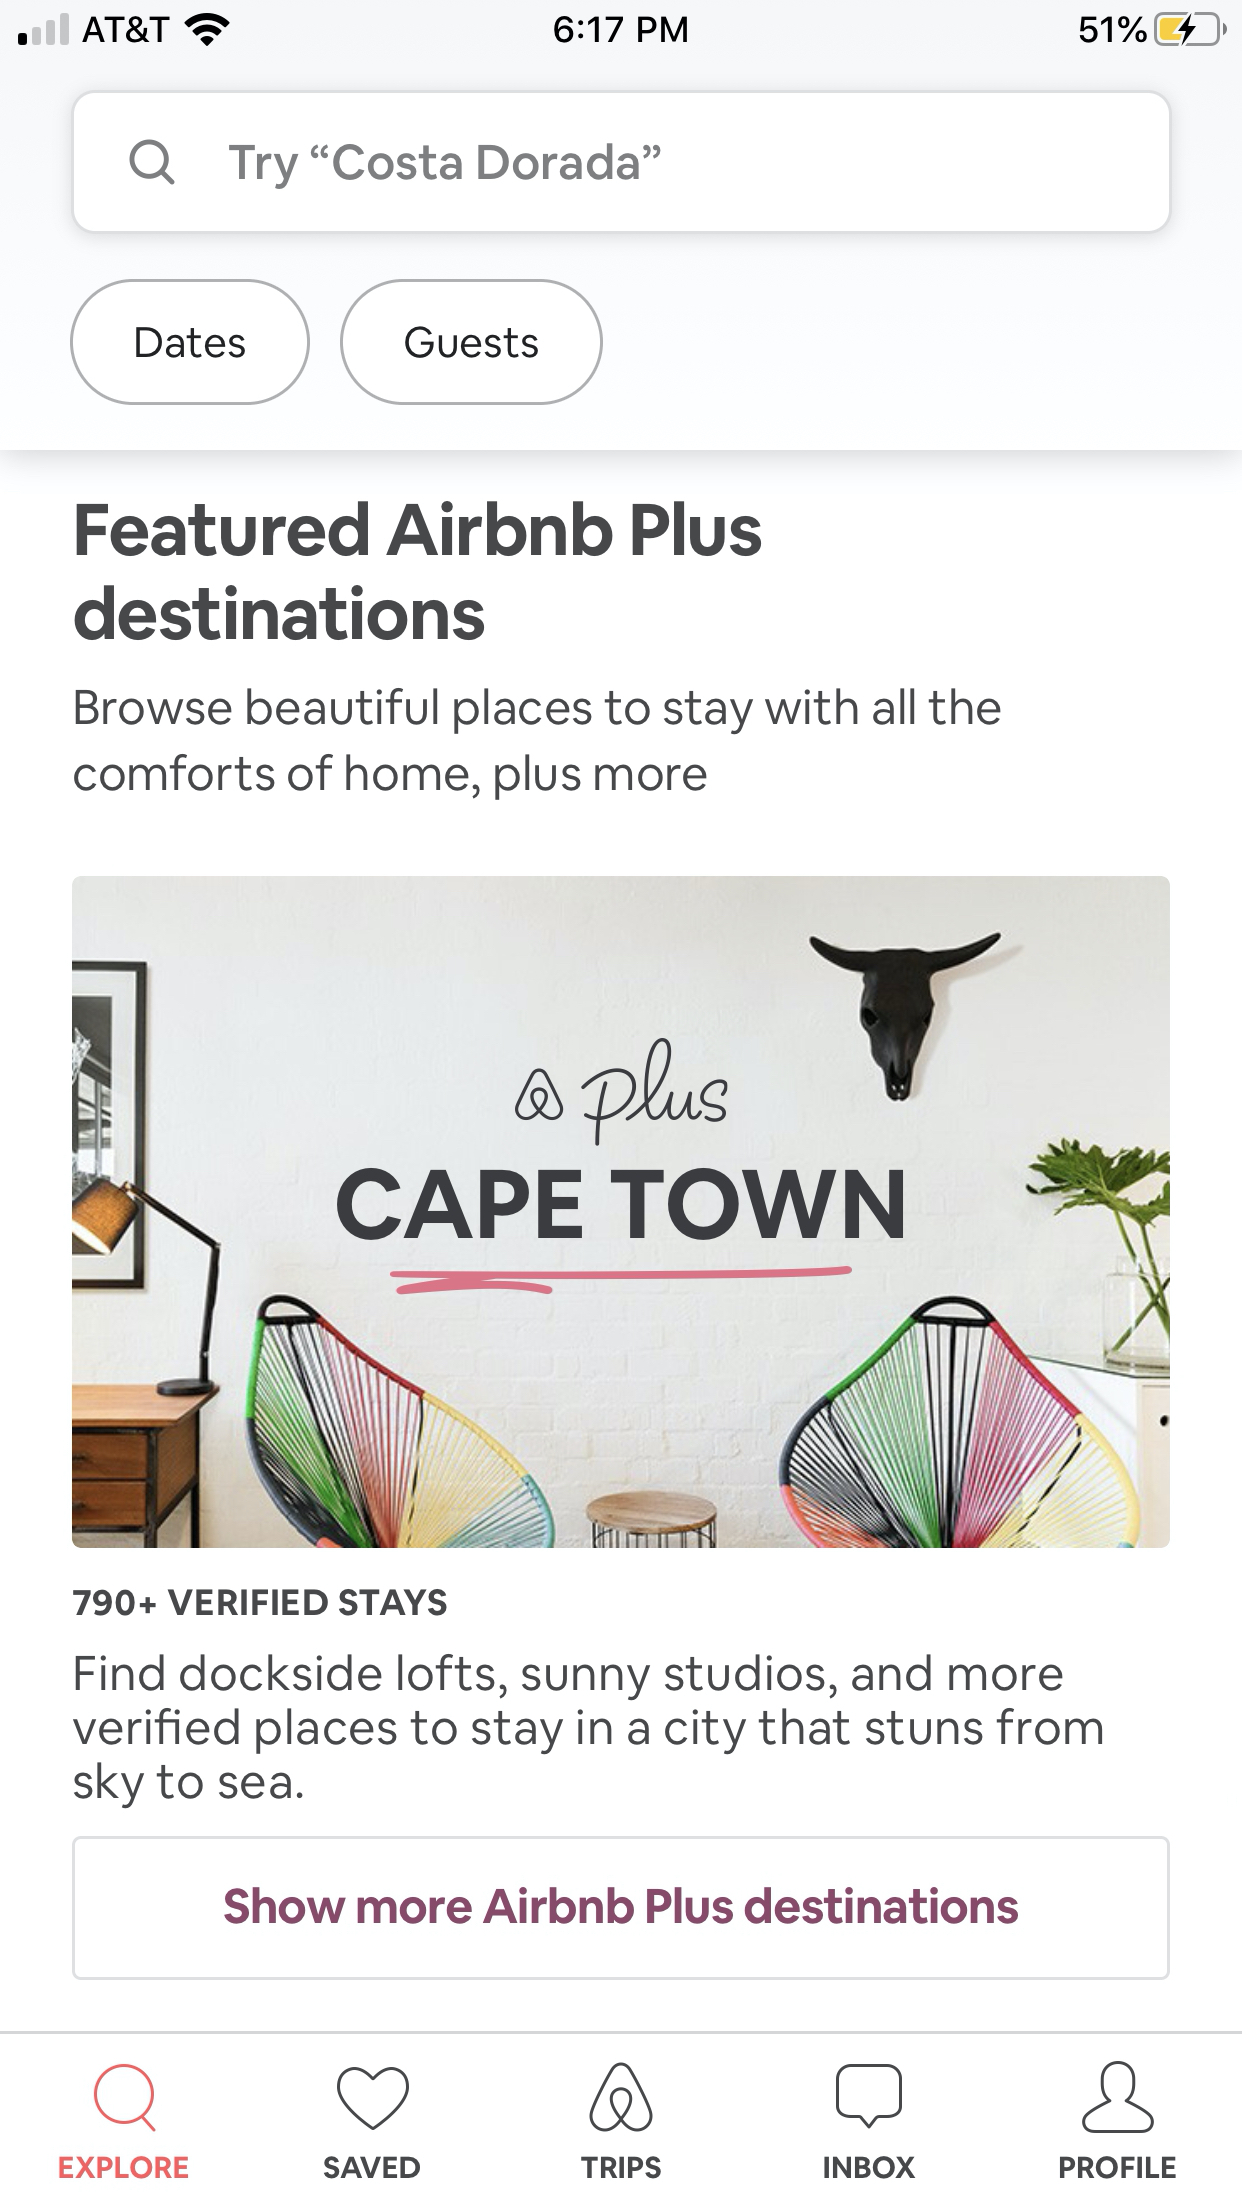EditText: (71, 89, 1172, 235)
Icon: (1081, 2061, 1156, 2134), (337, 2065, 409, 2131), (588, 2062, 654, 2132), (836, 2062, 902, 2129), (94, 2062, 158, 2132), (130, 140, 176, 187)
Image: (73, 877, 1171, 1548)
Text: (73, 1653, 1102, 1809), (74, 688, 1001, 801), (74, 500, 761, 641), (229, 144, 663, 191), (73, 1589, 447, 1617), (59, 2156, 190, 2179), (1060, 2155, 1177, 2179), (325, 2155, 422, 2179), (823, 2155, 916, 2179), (581, 2156, 663, 2179)
TextButton: (71, 1836, 1171, 1981), (340, 278, 605, 406), (70, 278, 312, 406)
UpperTaskBar: (2, 2, 1242, 49)
